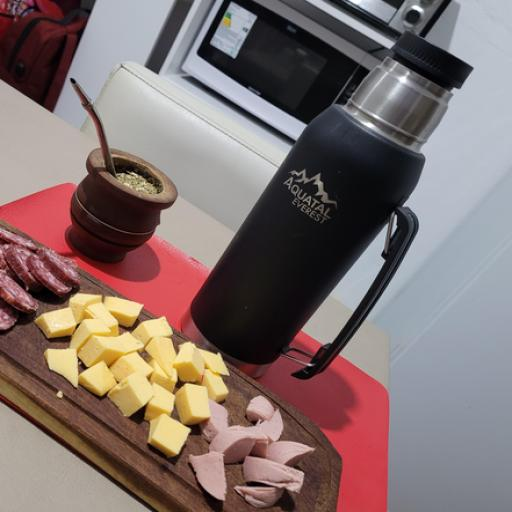mate: (70, 149, 177, 262)
termo: (184, 33, 472, 379)
